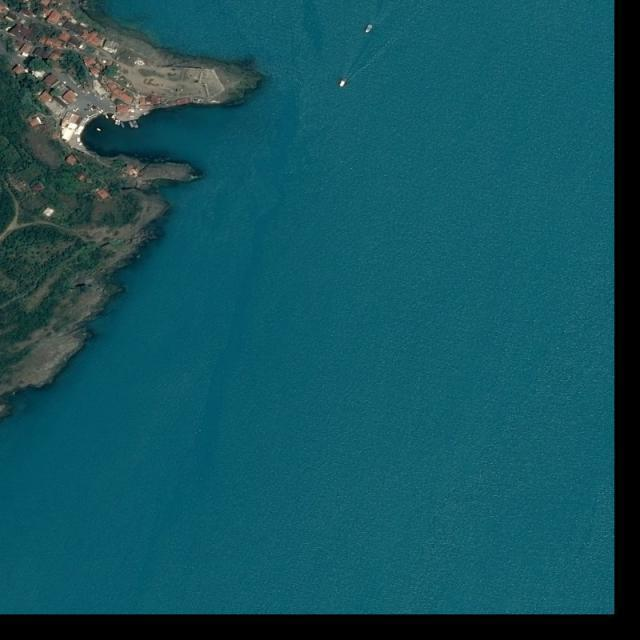ship: (364, 24, 374, 35), (338, 77, 347, 89), (132, 119, 140, 130), (128, 120, 134, 129), (95, 127, 103, 133), (121, 122, 126, 130), (105, 114, 110, 120), (110, 114, 115, 120), (114, 119, 118, 126), (118, 120, 122, 127)
